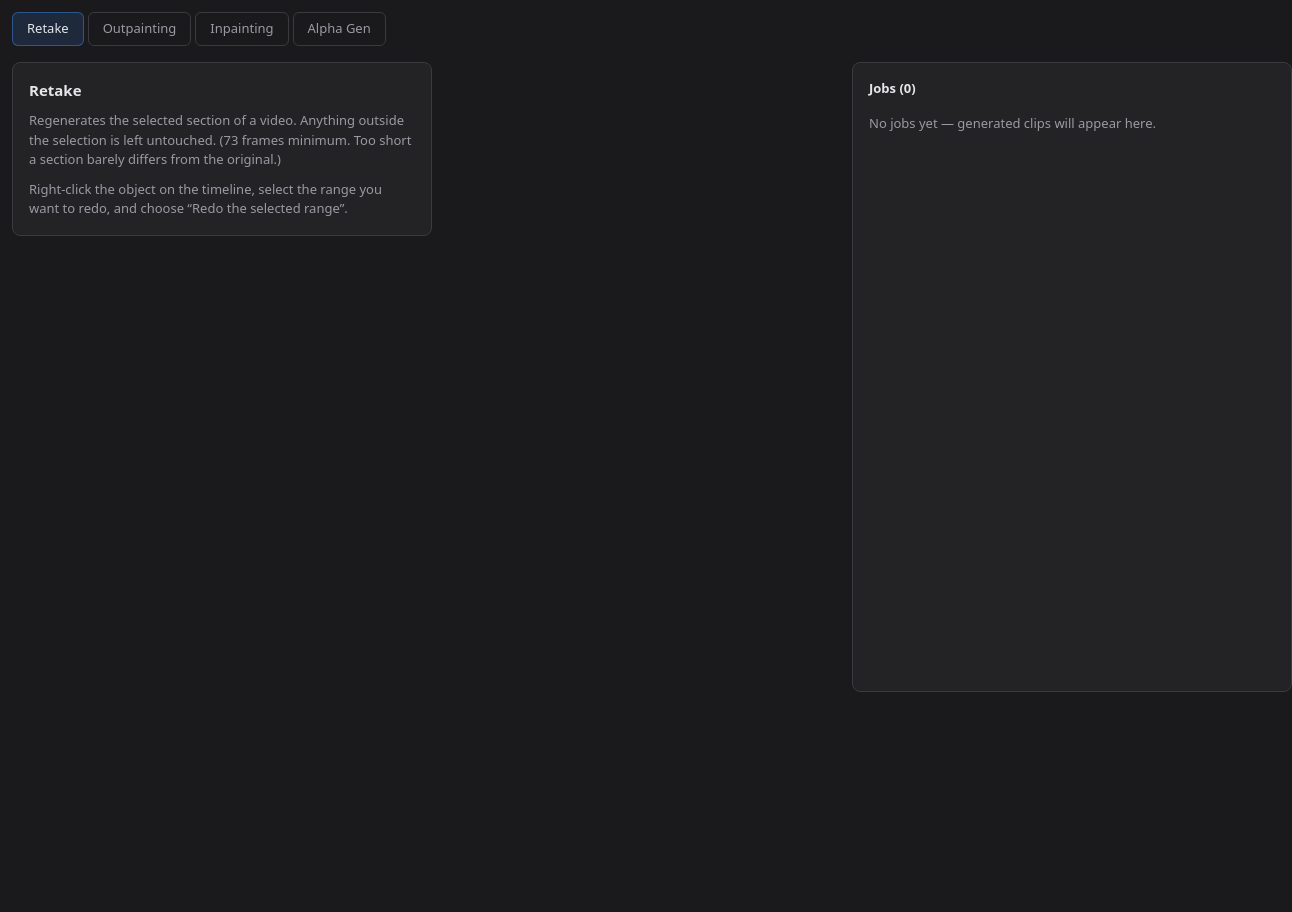
Test case: EditScreen sub-tabs › switches to the Outpainting panel when its sub-tab is clicked
Step 1. Click the tab "Outpainting" → {"x": 140, "y": 29}, box x1=88 y1=12 x2=191 y2=46
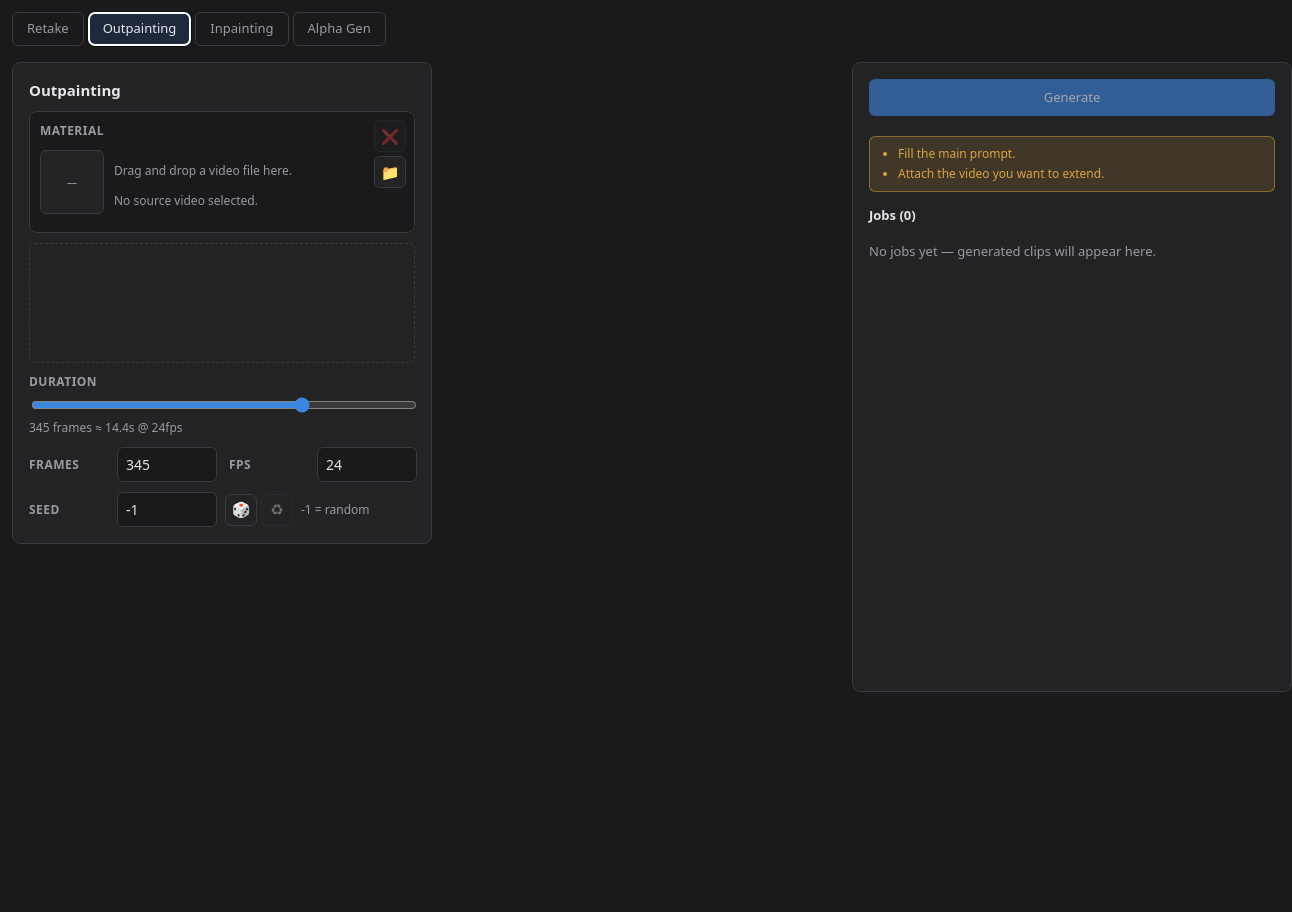
Check: the heading "Outpainting" is shown, box x1=29 y1=80 x2=121 y2=100
